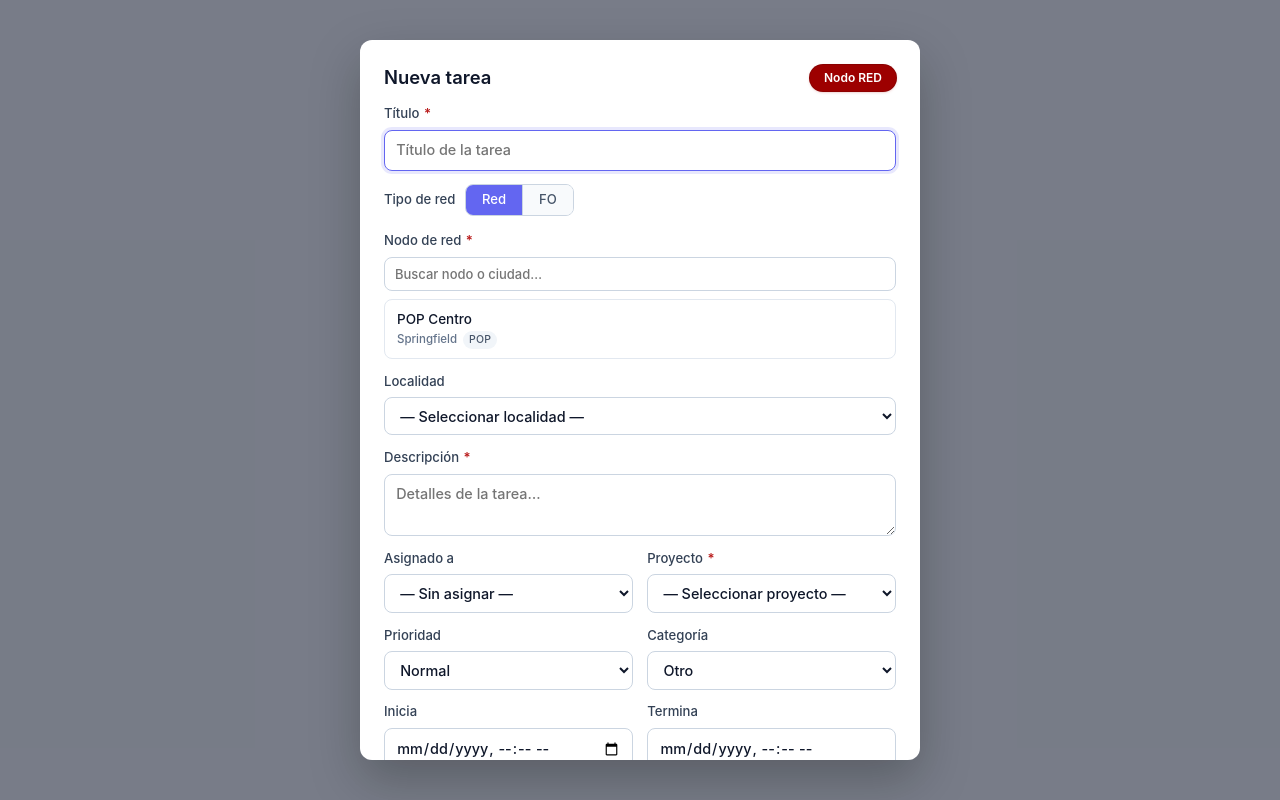
Scenario: CreateTaskModal — Red mode unchanged (TC-FO-4) › switching back from FO to Red removes the FO dropdown and restores NodeSelector
Switch to FO
Click the button "FO". click: (548, 200)
box: [523,185,573,214]
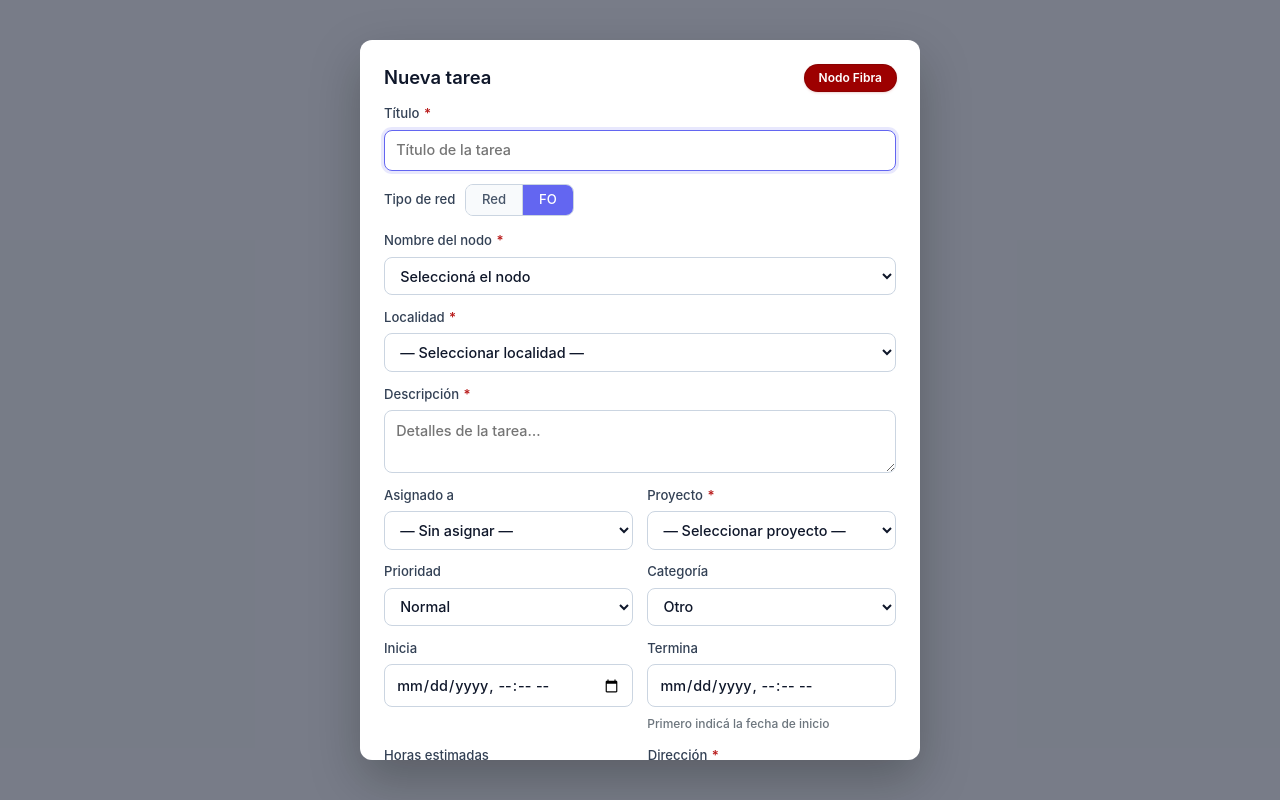
Check: the dropdown labelled "Nombre del nodo *" is shown, box [384,257,896,295]
Switch back to Red
Click the button "Red". click: (494, 200)
box: [466,185,523,214]
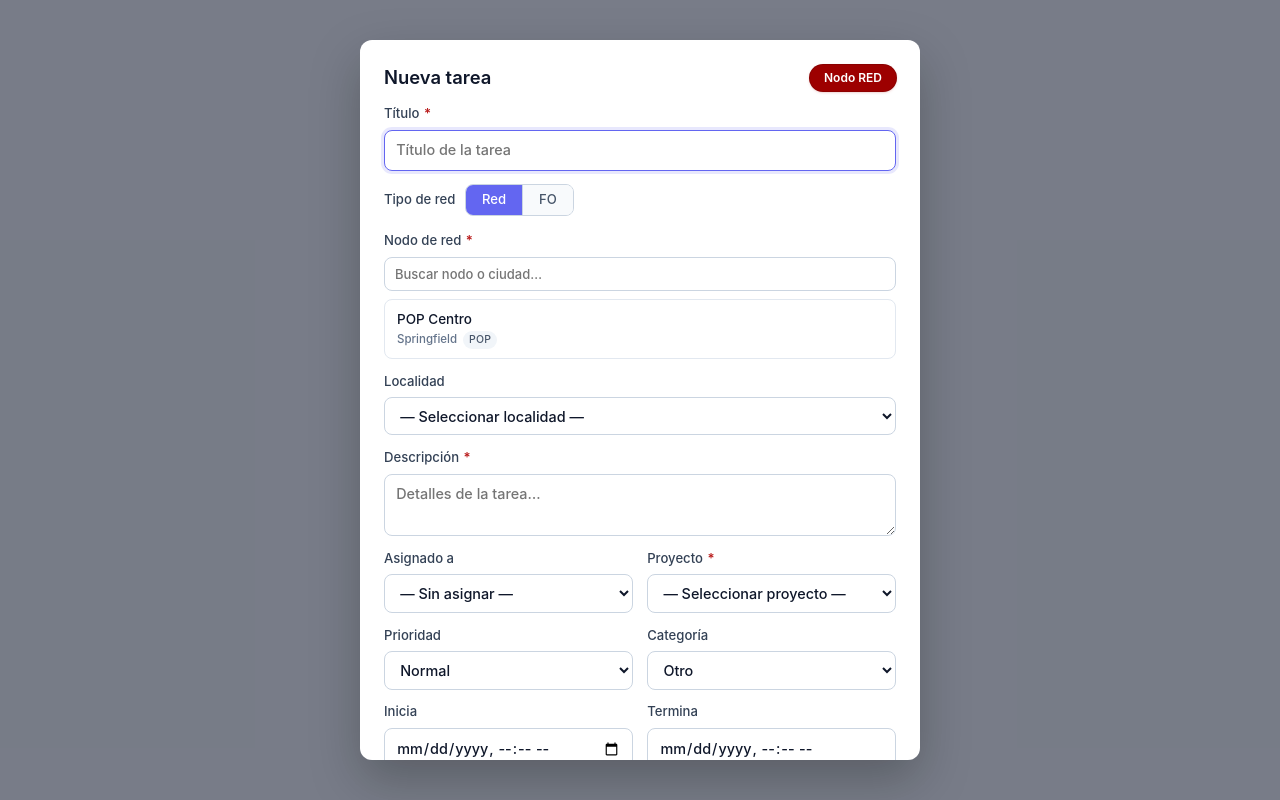
Check: the dropdown labelled "Nombre del nodo" is gone
Check: the list named "nodos de red" is shown, box [384,299,896,359]
